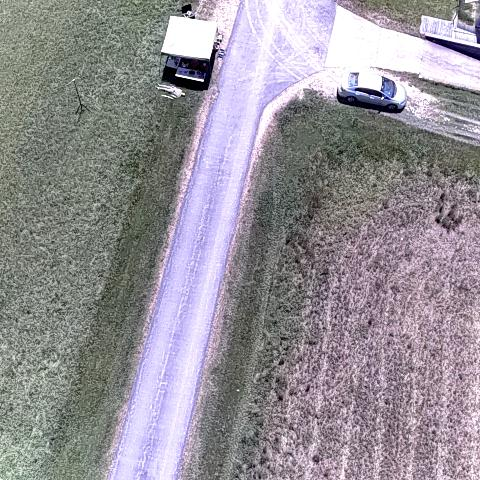person: (154, 82, 186, 98)
